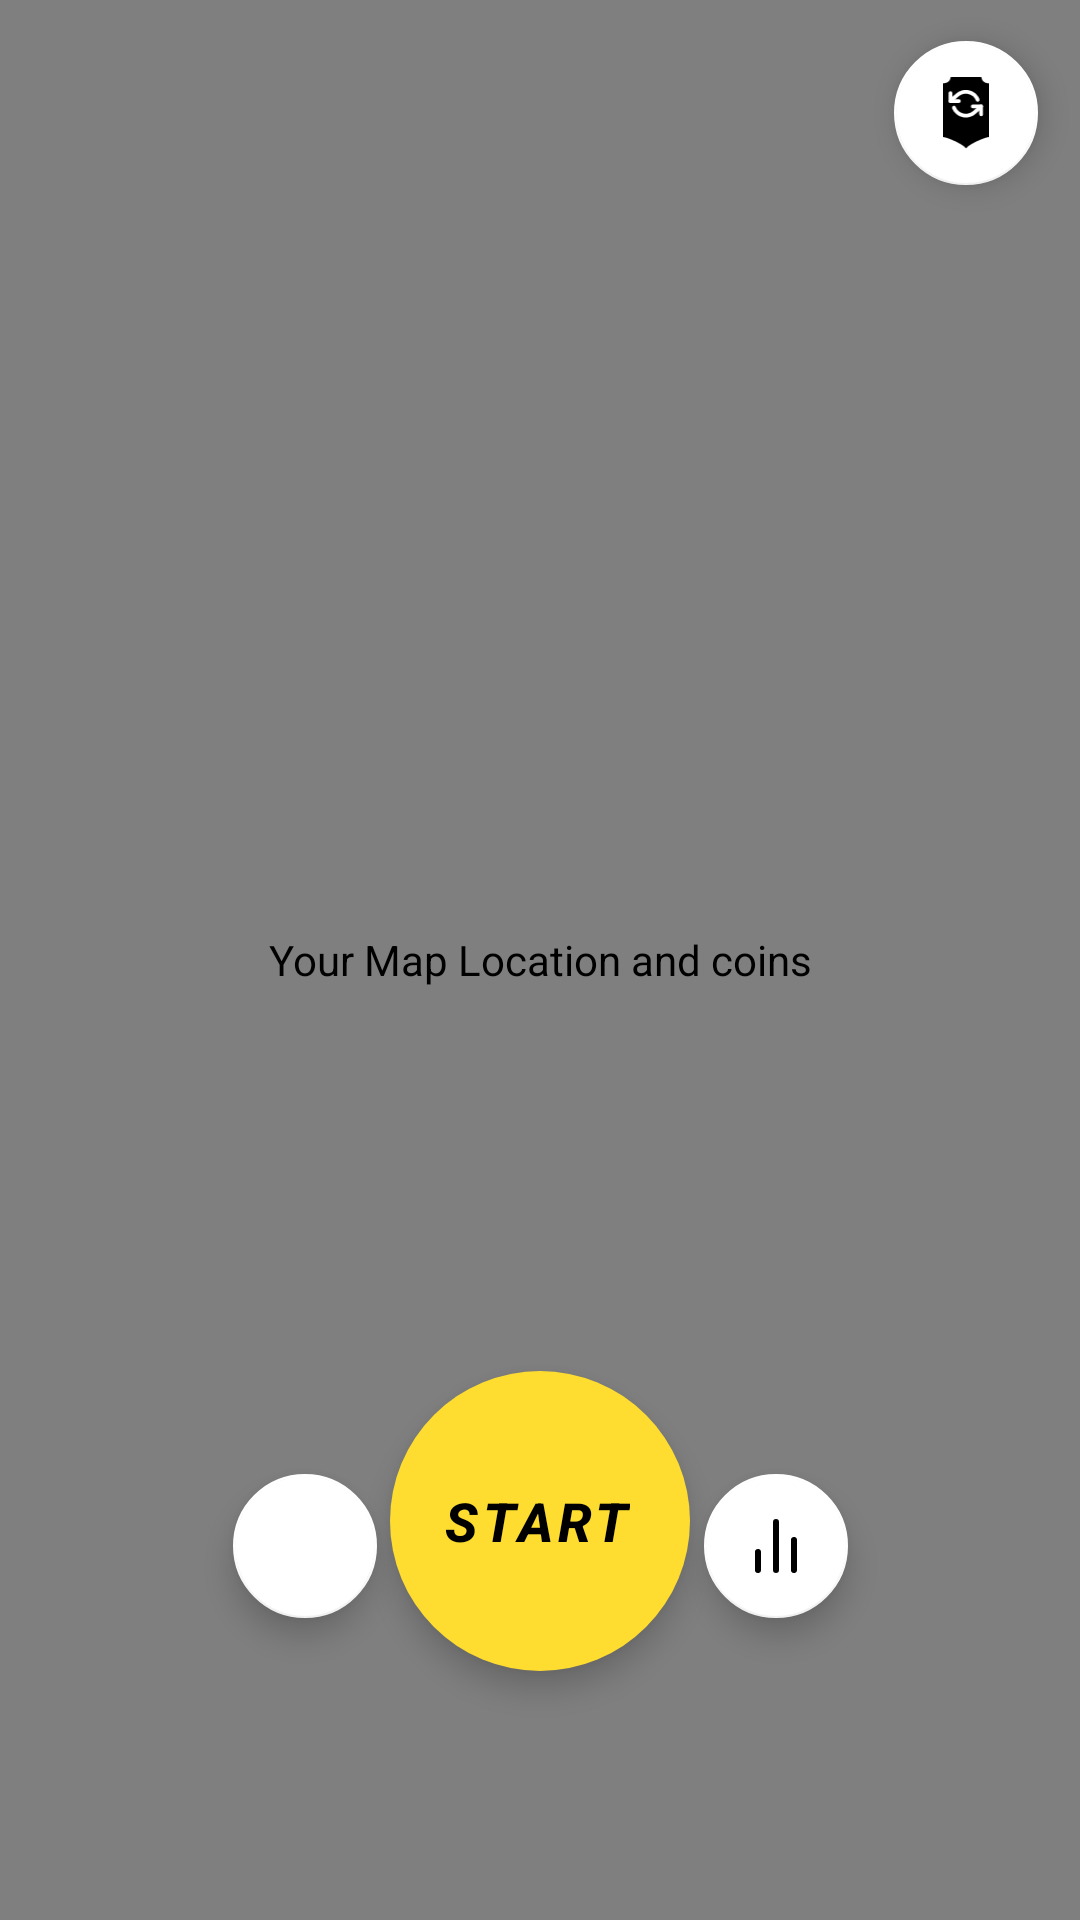

Where to tap for icons on this 1080 x 1920 app screen, as (x,y):
bar chart: (776,1546)
reload ticket location: (966,113)
